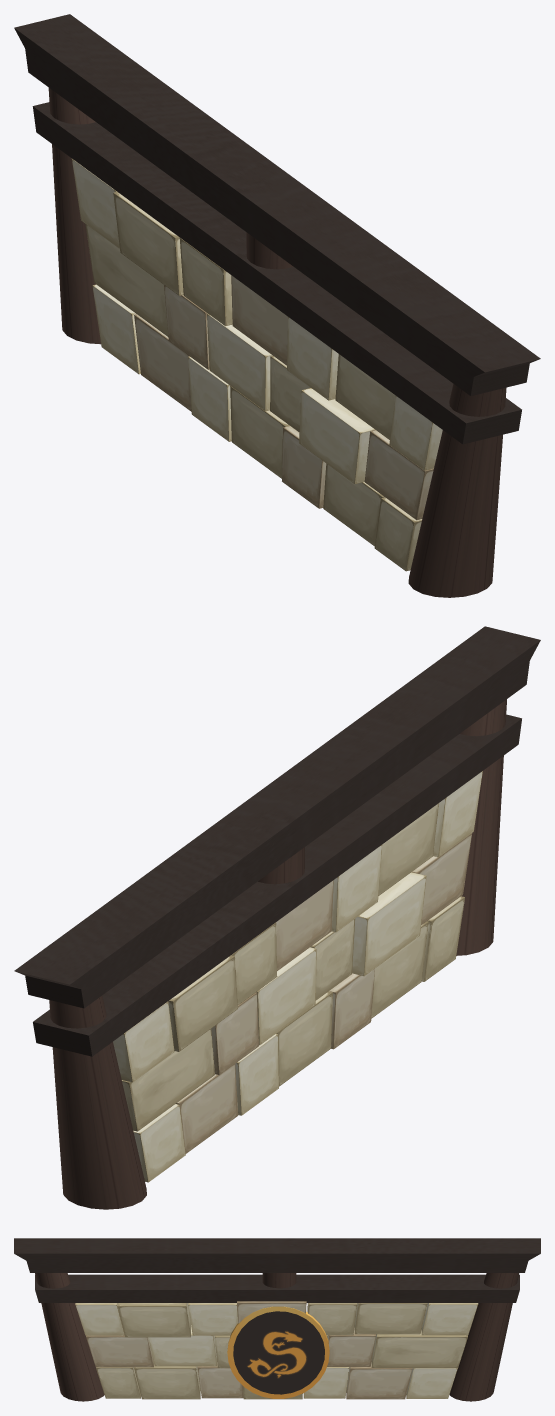
Rendered from indestructible_wall_texture.FBX.
The picture shows the model from 3 angles, top to bottom: view 1: azimuth 30°, elevation 25°; view 2: azimuth 150°, elevation 25°; view 3: azimuth 270°, elevation 25°; orthographic projection. The views are drawn at different scales.
Visible parts, largest first — view 1: Box106, Box103; view 2: Box106, Box103; view 3: Box106, Box103, Circle001, Cylinder001.
Boxes of the visible parts, bbox=[...] form: Box106: bbox=[14, 14, 540, 597]; Box103: bbox=[72, 159, 442, 571]; Box106: bbox=[14, 626, 540, 1209]; Box103: bbox=[113, 771, 482, 1182]; Box106: bbox=[14, 1238, 540, 1401]; Box103: bbox=[75, 1301, 478, 1399]; Circle001: bbox=[233, 1311, 324, 1394]; Cylinder001: bbox=[227, 1306, 329, 1398].
Size of the model in its own units: 0.2193 by 0.7325 by 2.41.
Materials: 9 (9 with a texture image).
